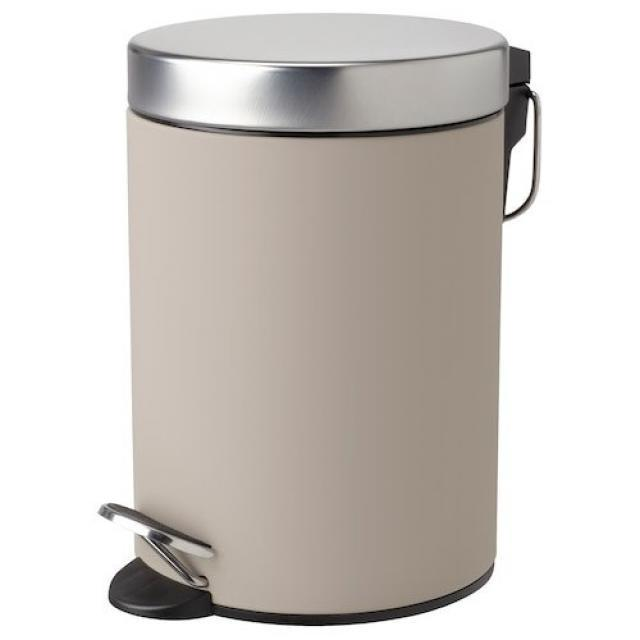Dumpster: (88, 3, 546, 640)
